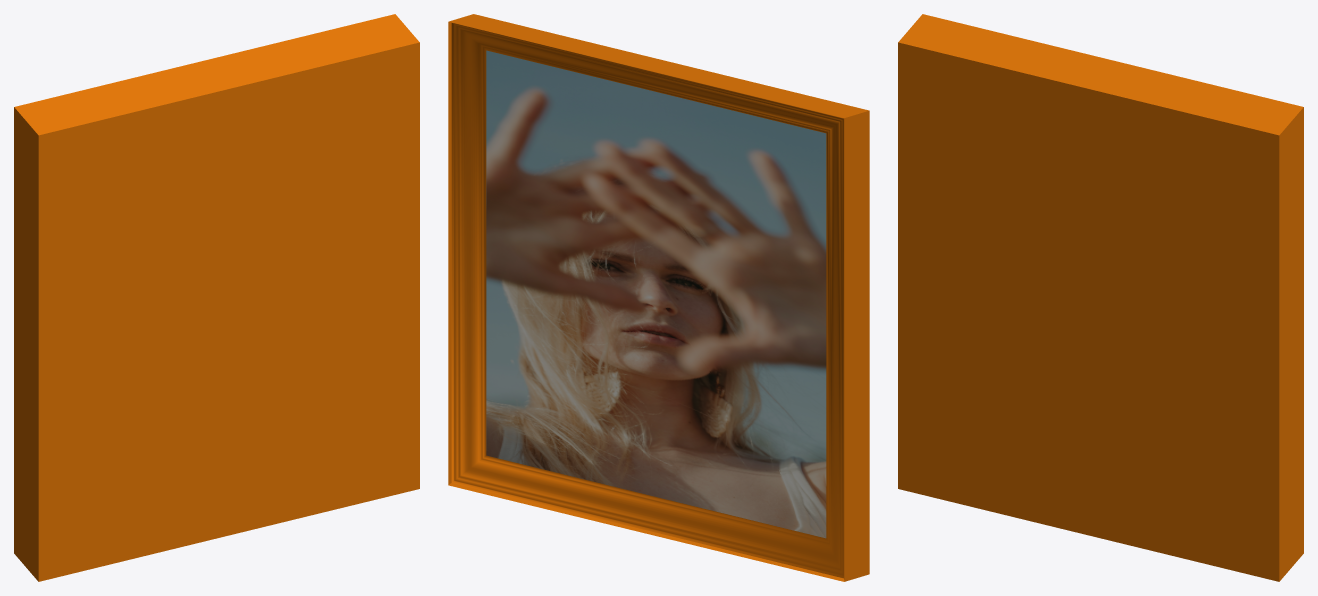
3 renders of one model, left to right at view 1: azimuth 30°, elevation 25°; view 2: azimuth 150°, elevation 25°; view 3: azimuth 330°, elevation 25°, orthographic. The views are drawn at different scales.
Visible parts, largest first — view 1: Cube; view 2: Cube; view 3: Cube.
Boxes of the visible parts, x1,y1,x2,y2 form: Cube: (14, 14, 419, 581); Cube: (448, 14, 869, 581); Cube: (898, 14, 1303, 581).
Bounding box in the file's own units: 2 × 2.29 × 0.2224.
2 materials, 1 textured.
